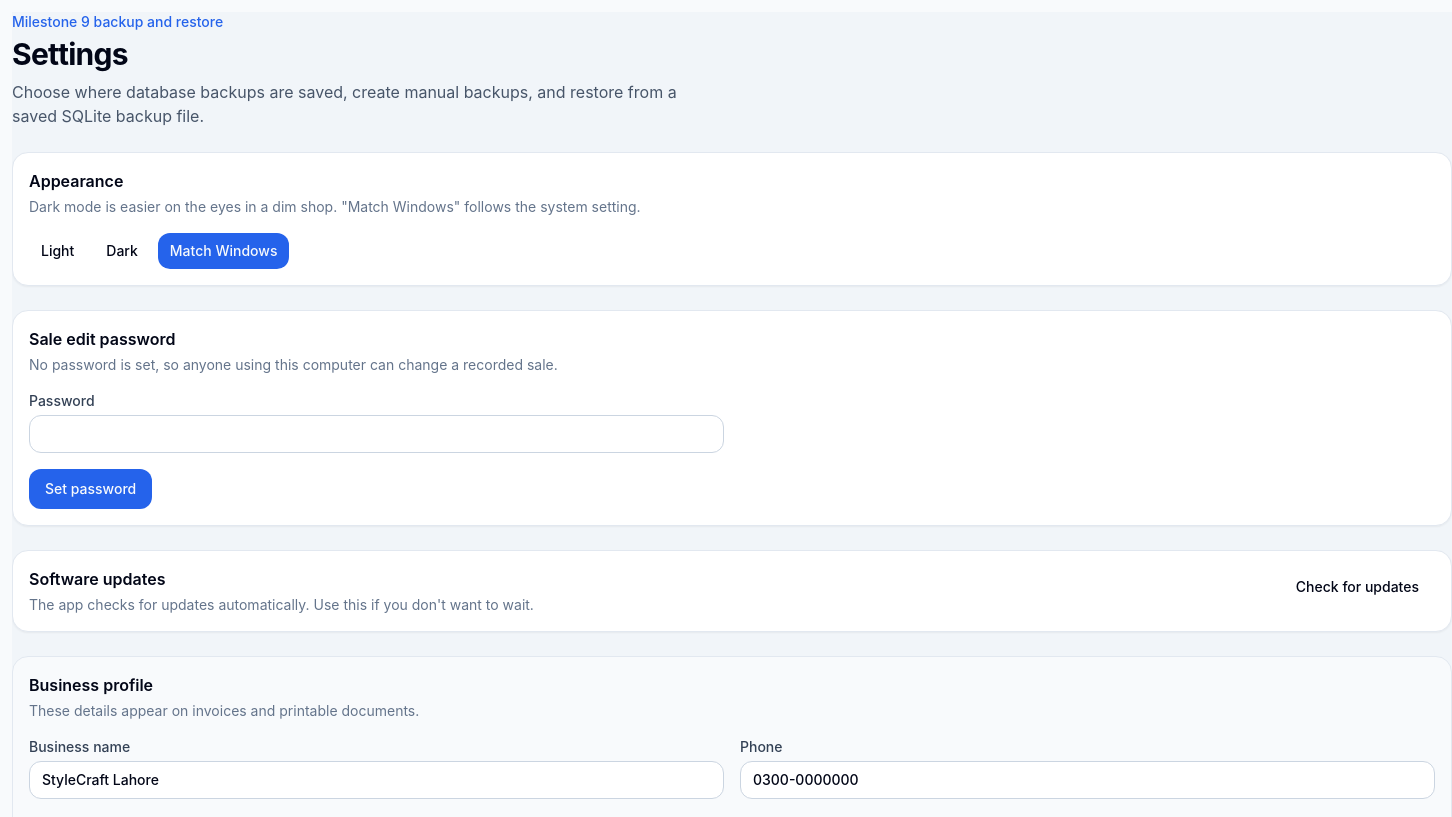
SettingsScreen › checks for updates and shows the result
Click the button "Check for updates".
click(1357, 587)  # box [1280,567,1435,607]
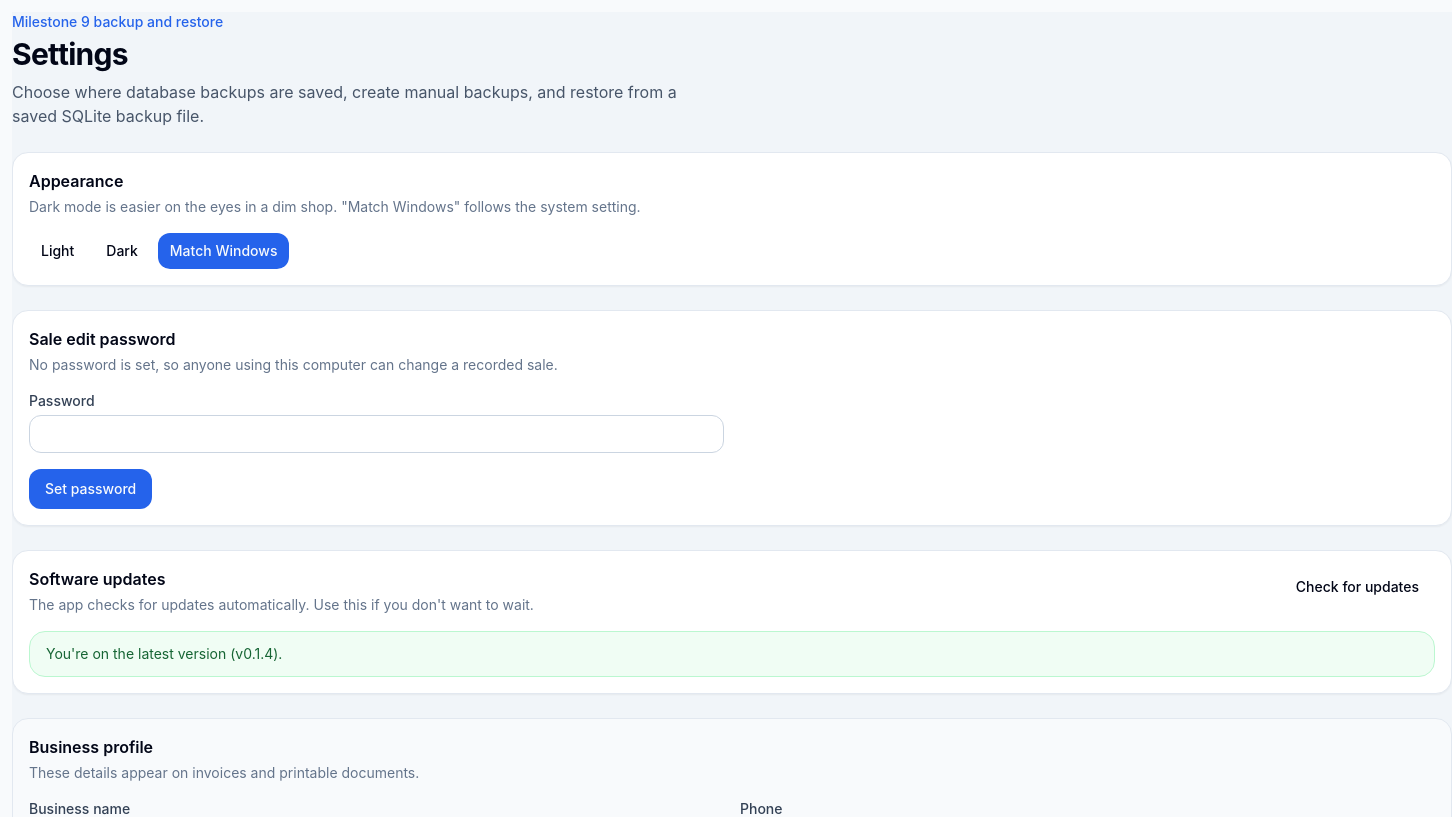
Check: the message reads "You're on the latest version (v0.1.4).", box [46,645,282,662]
